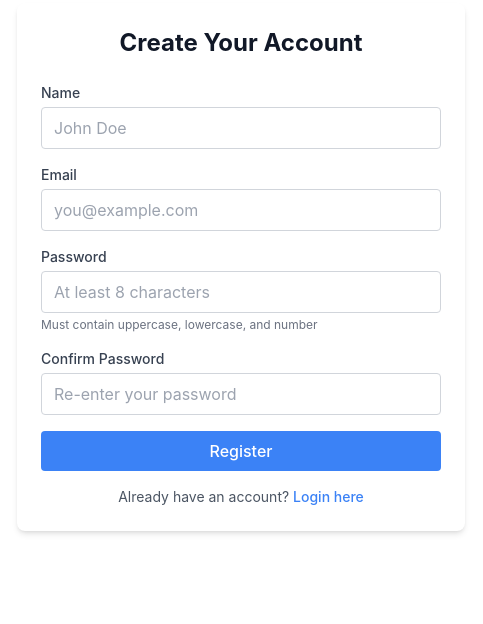
Scenario: RegisterForm › validates passwords match
The width and height of the screenshot is (483, 624).
Type "Password123" into the password field labelled "Password" at (241,292), box [41, 271, 441, 313]
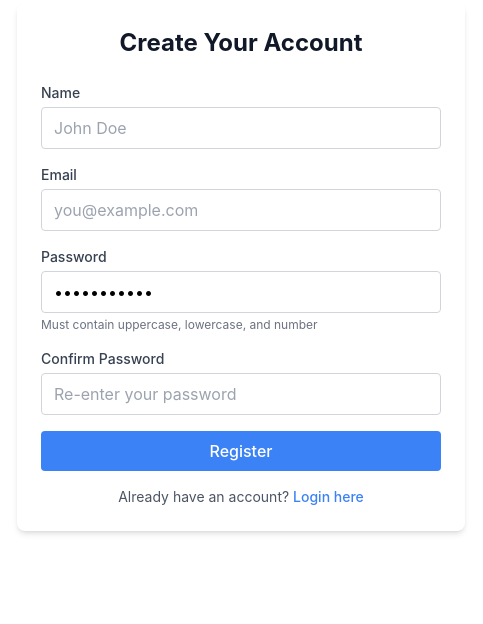
Type "Password456" into the password field labelled "Confirm Password" at (241,394), box [41, 373, 441, 415]
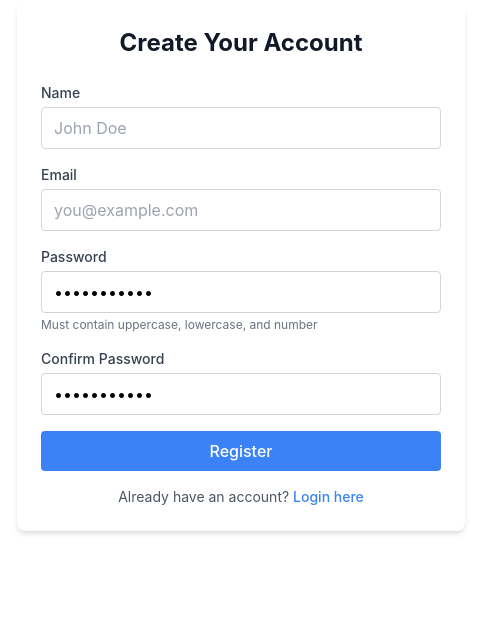
Click the button "Register" at (241,451), box [41, 431, 441, 471]
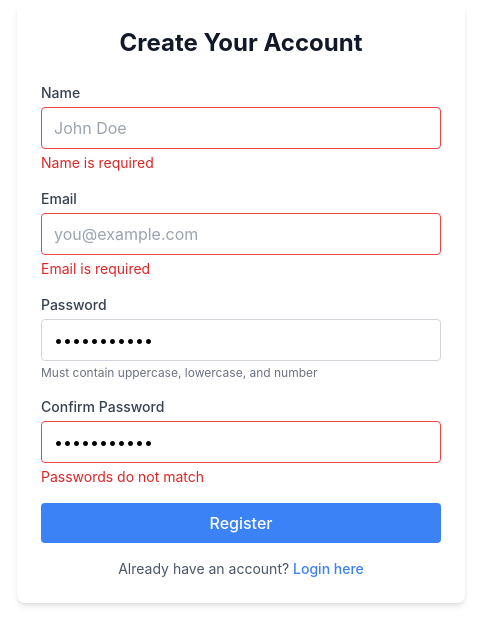
Expected: the text "Passwords do not match" is shown, [41, 468, 204, 485]
